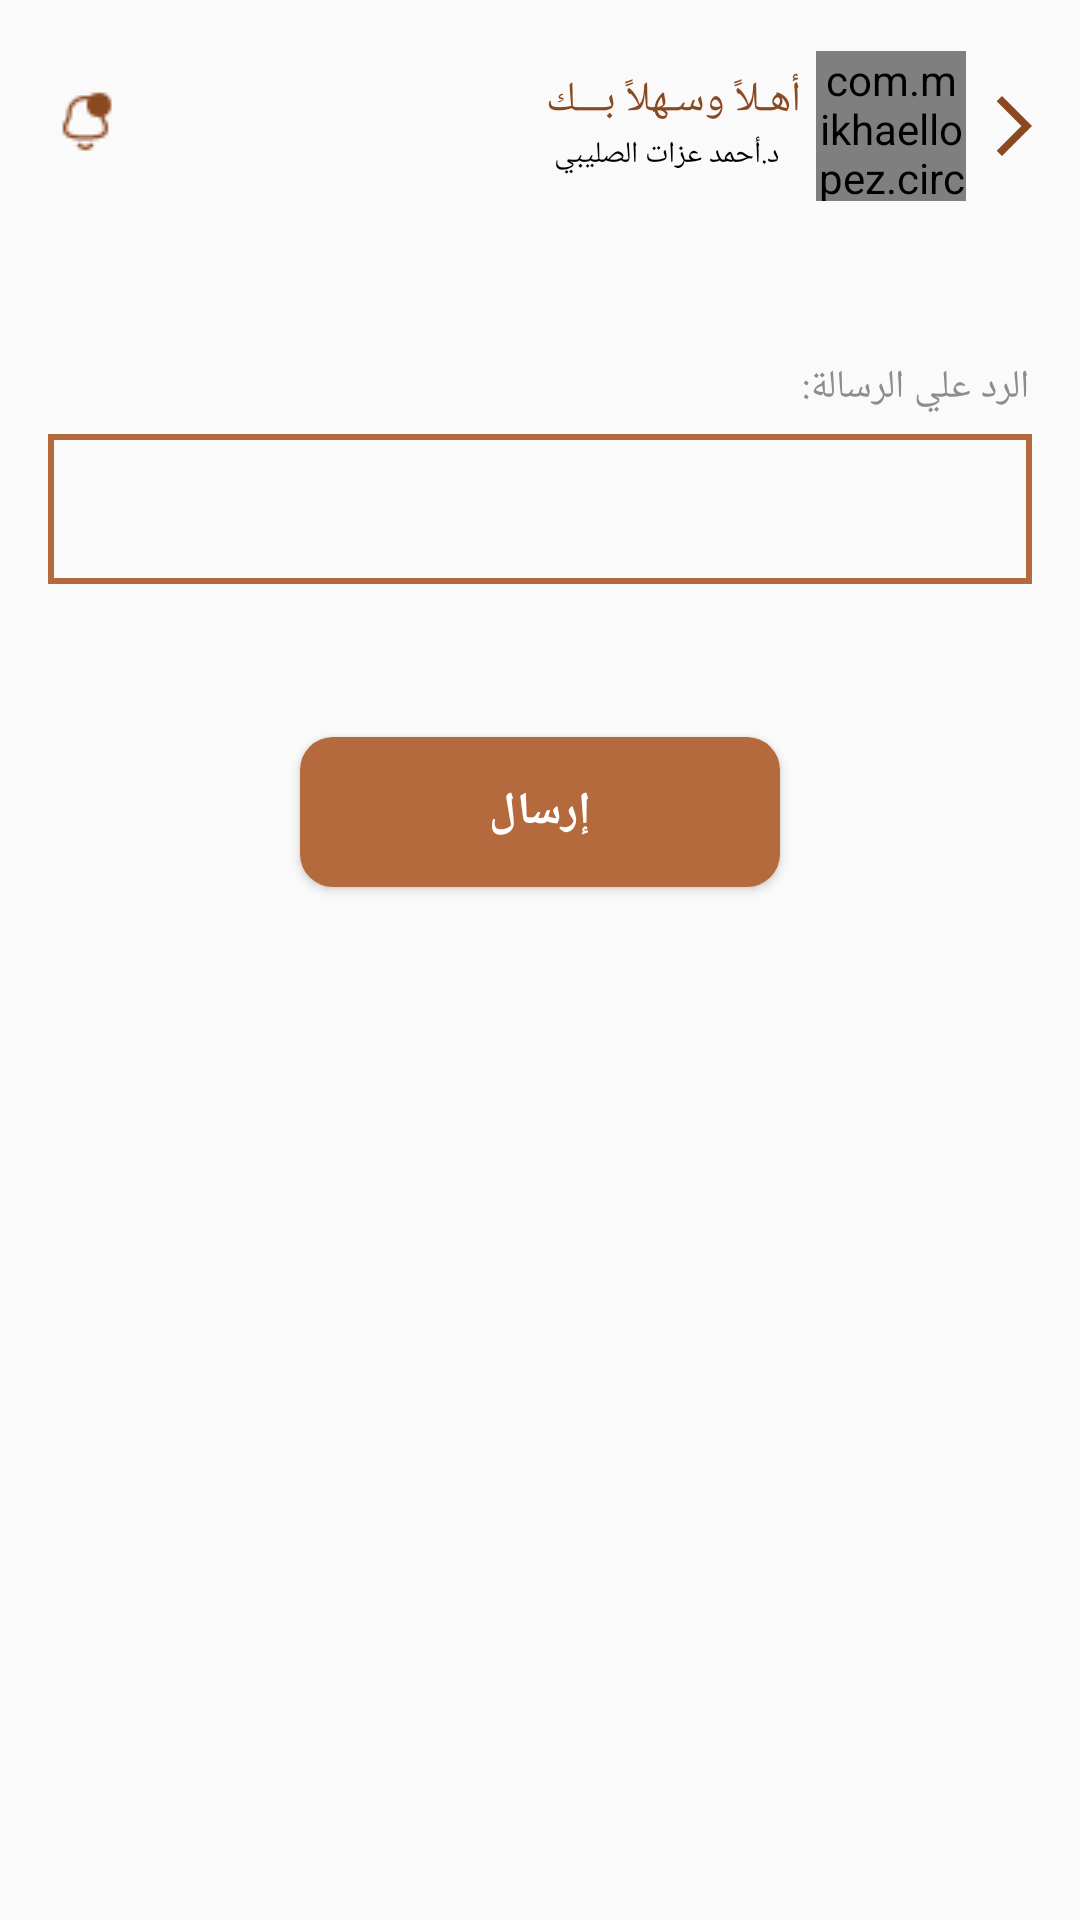

Icon click points for this 1080w x 1920h phone screenshot, format point (x, y):
arrow forward: point (1014, 126)
notifaction: point (87, 121)
